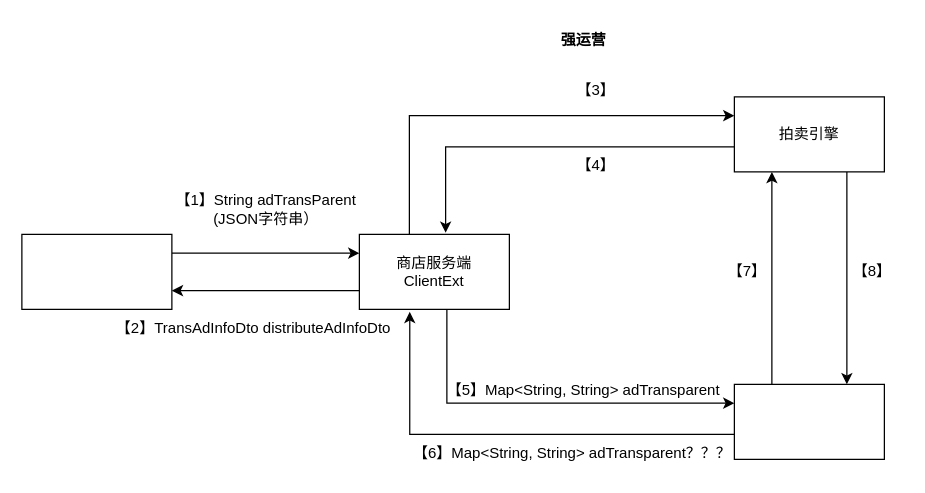
Some shapes in this 925 by 493 pixel diagram are drawn without their labels. The shapes that lost their labels are listed below. From the top down, each one's centre as x and y in pixels, then its label:
point 96,271: 客户端
point 808,421: 融合
